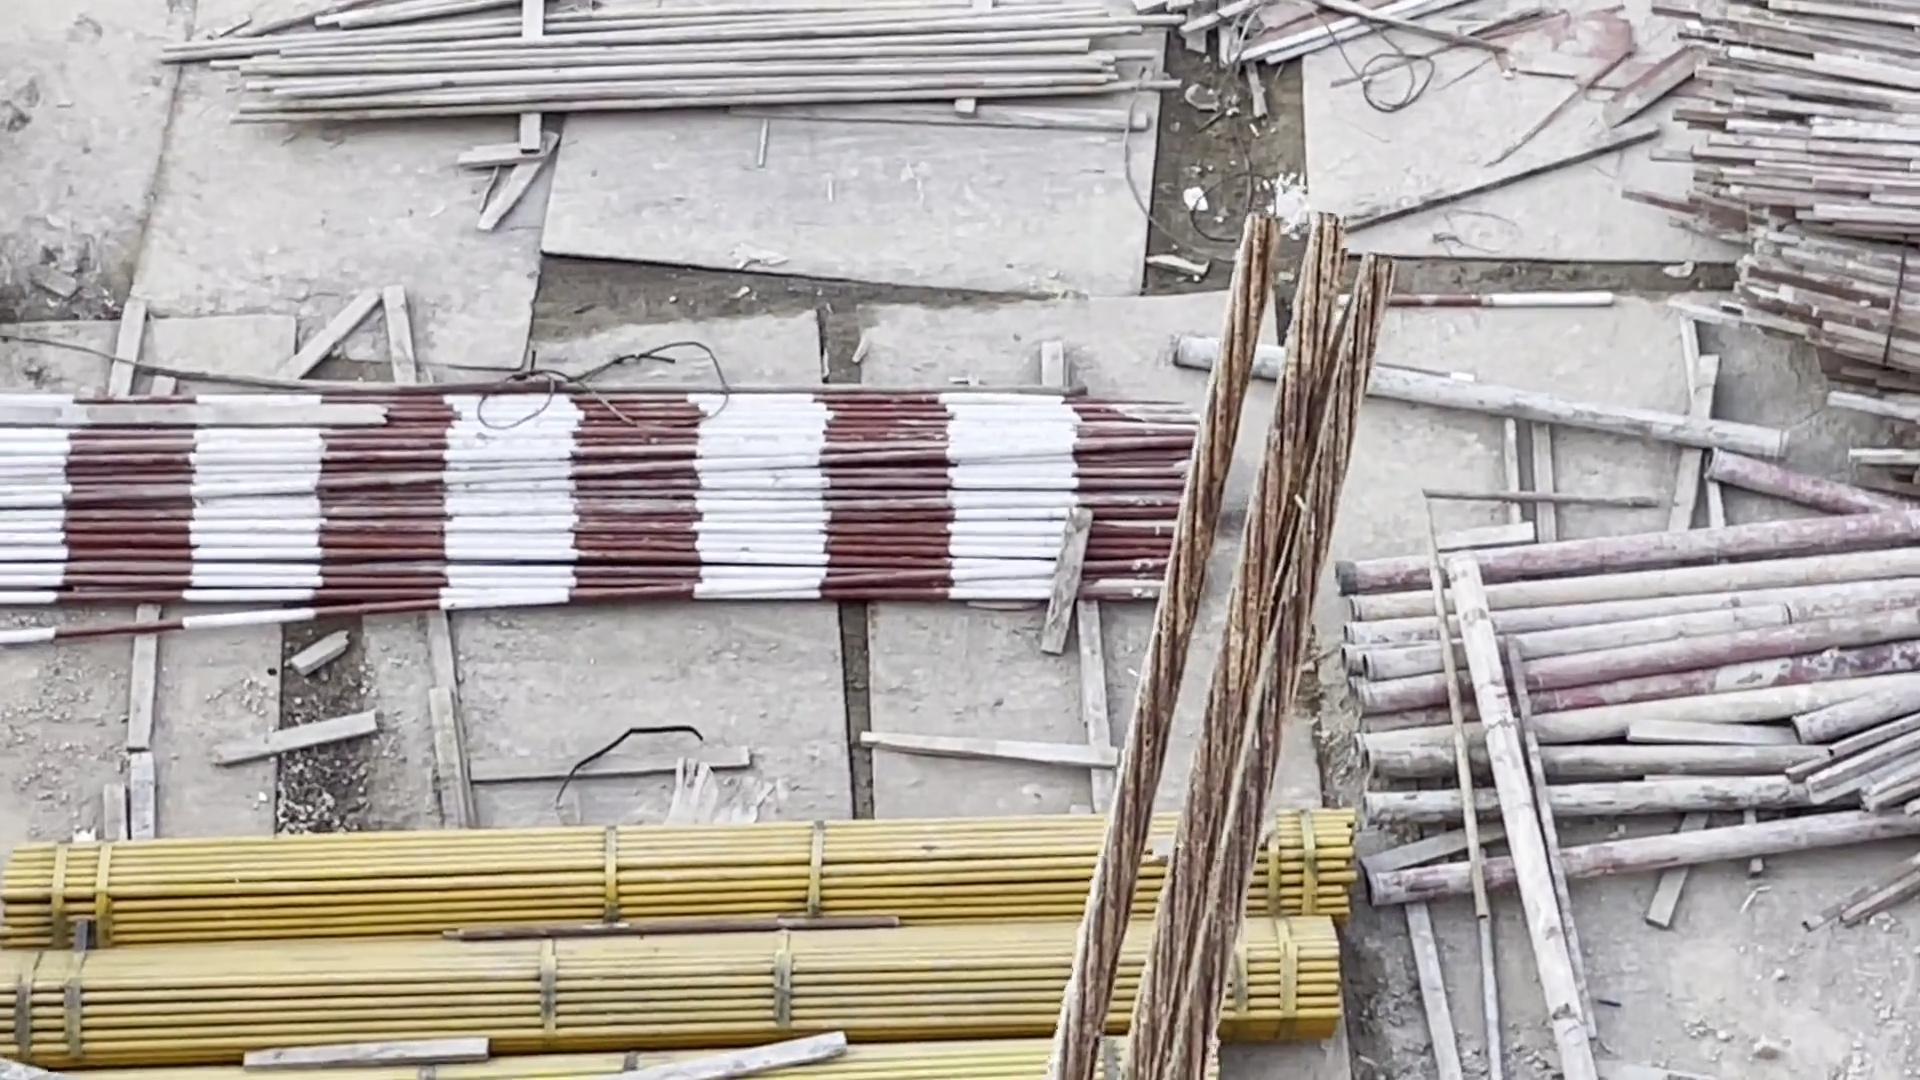scaffold: (1346, 531, 1905, 913)
wood: (1680, 1, 1920, 407)
